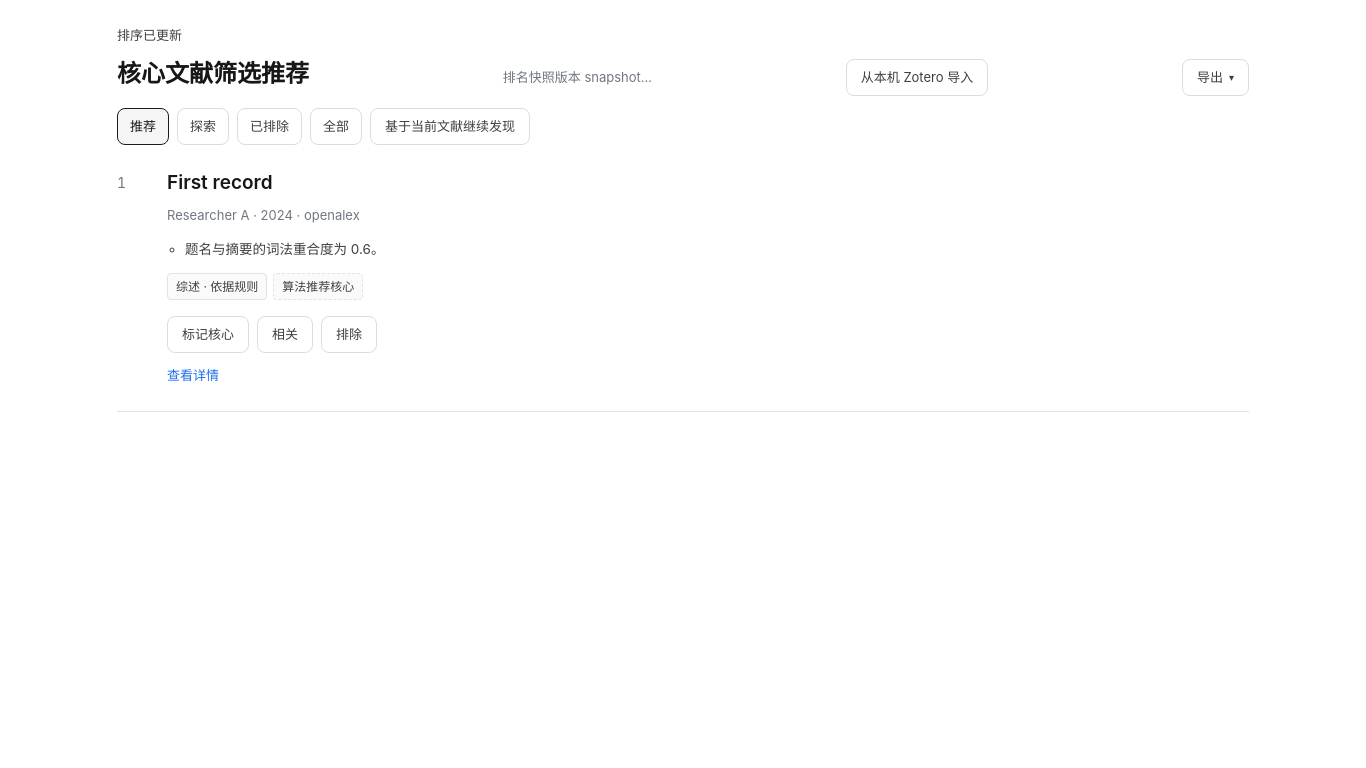
Test: Workspace › keeps the open drawer pinned by paper_id and renders the campus access entry points
Click the button "全部" at (336, 126), box [310,108,362,145]
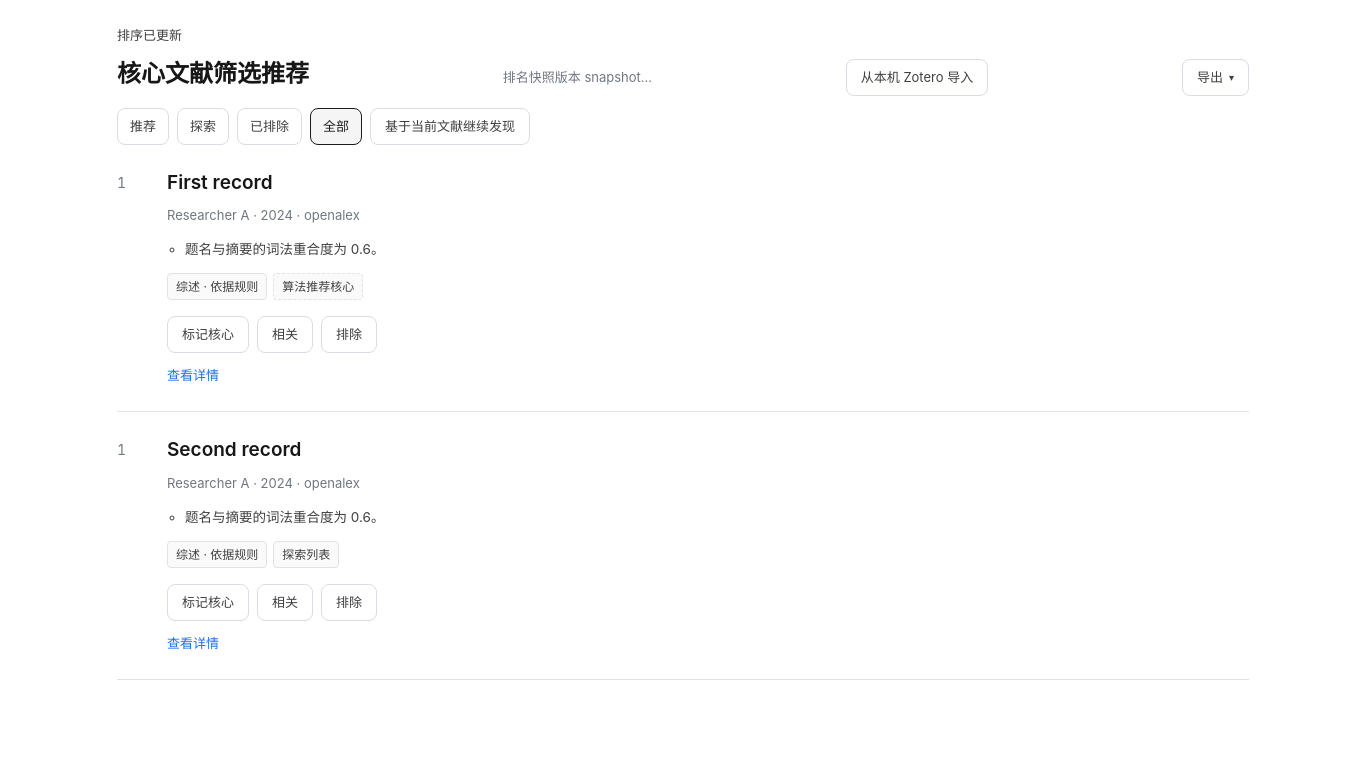
Click the button with class "le32-card-open" showing "Second record" at (234, 450), box [167,436,302,464]
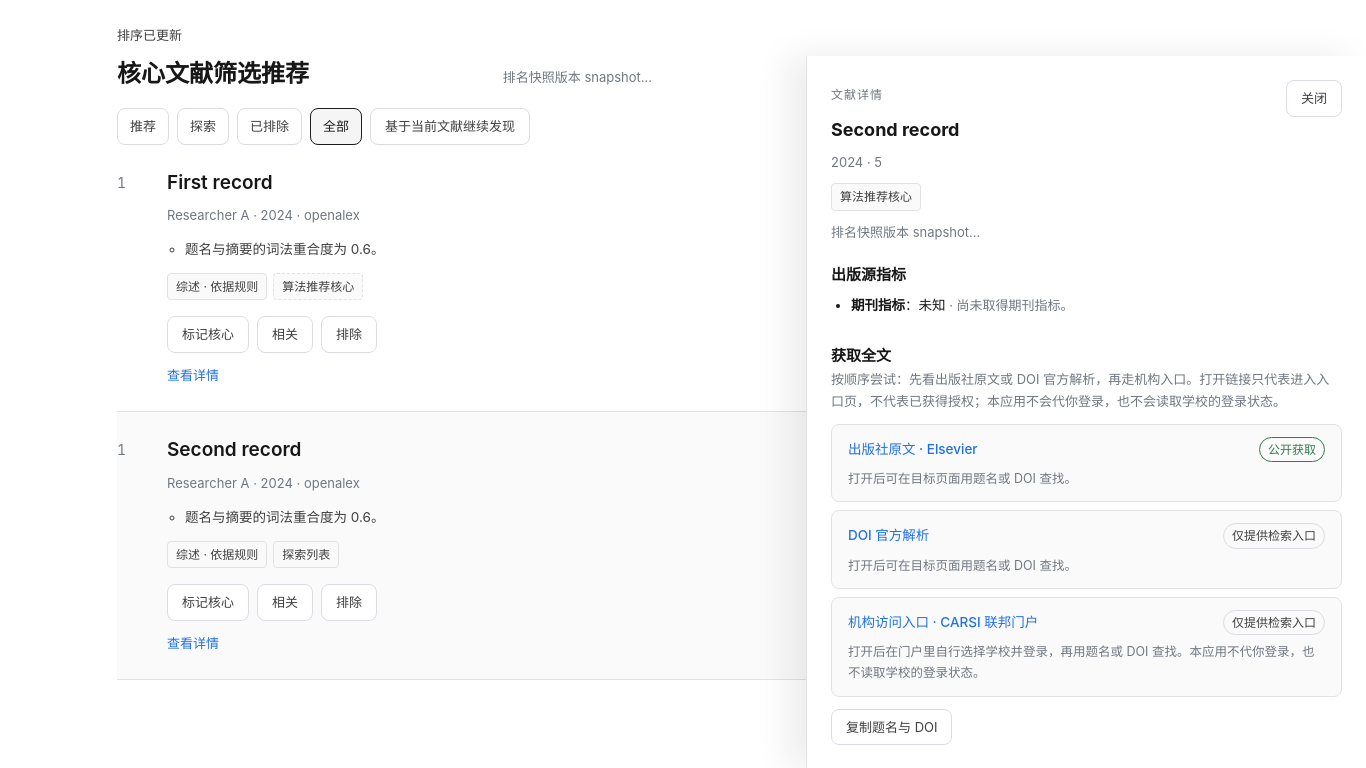
expect the button with class "le32-card-open" reads "Second record": met, box [167,436,302,464]
expect the text "不代表已获得授权" is shown: met, box [831,371,1329,409]
expect the list that starts with "出版社原文 · Elsevier" is shown: met, box [848,439,978,461]
